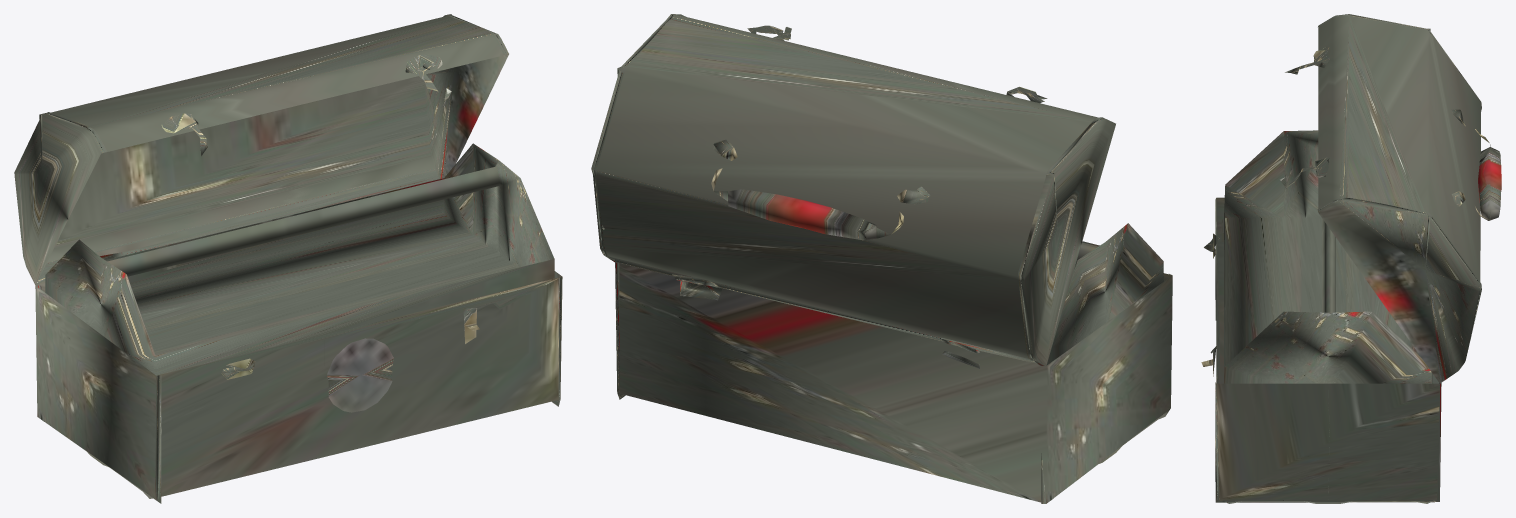
Rendered from toolbox-metal.lite.1f02512a.glb.
3 views of the same model, side by side, from view 1: azimuth 30°, elevation 25°; view 2: azimuth 150°, elevation 25°; view 3: azimuth 270°, elevation 25° (orthographic). The views are drawn at different scales.
Visible parts, largest first — view 1: model; view 2: model; view 3: model.
Boxes of the visible parts, box(x1,y1,x2,y2) form: model: box(14, 14, 562, 503); model: box(591, 14, 1172, 503); model: box(1201, 14, 1501, 503).
Size of the model in its own units: 0.4 by 0.3044 by 0.2687.
Materials: 1 (1 with a texture image).
